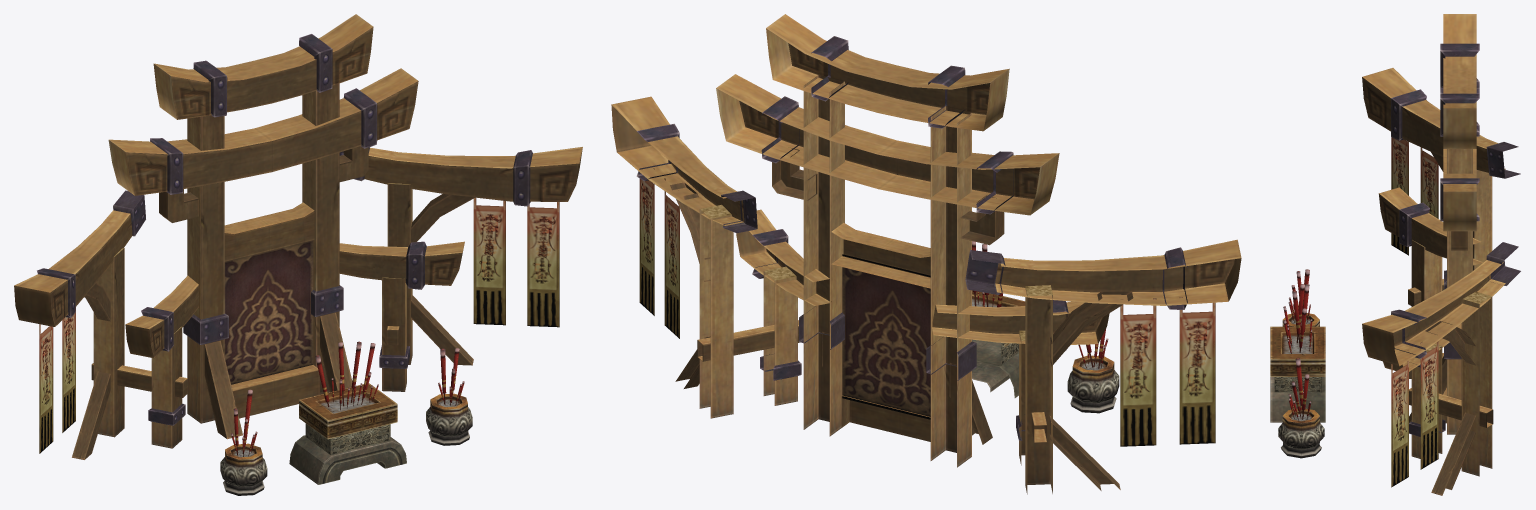
File: Map01_JiTan_01.FBX
The picture shows the model from 3 angles, left to right: view 1: azimuth 30°, elevation 25°; view 2: azimuth 150°, elevation 25°; view 3: azimuth 270°, elevation 25°; orthographic projection. The views are drawn at different scales.
Visible parts, largest first — view 1: Map01_JiTan; view 2: Map01_JiTan; view 3: Map01_JiTan.
Part boxes in pixels (bbox=[...]): Map01_JiTan: bbox=[14, 14, 582, 495]; Map01_JiTan: bbox=[611, 14, 1241, 494]; Map01_JiTan: bbox=[1270, 14, 1520, 495].
Bounding box in the file's own units: 1107 × 663 × 442.
